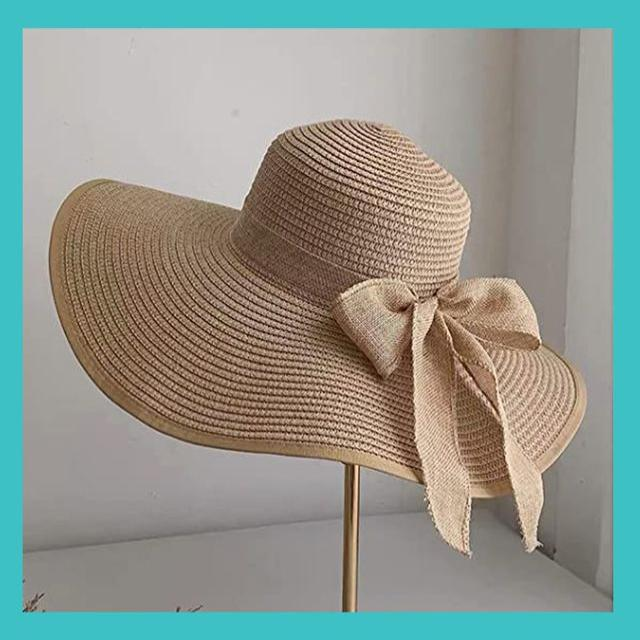hat: (41, 114, 592, 505)
